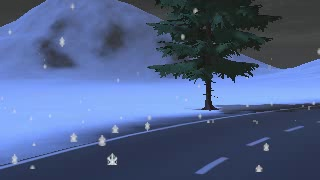Lane: (0, 106, 319, 179)
